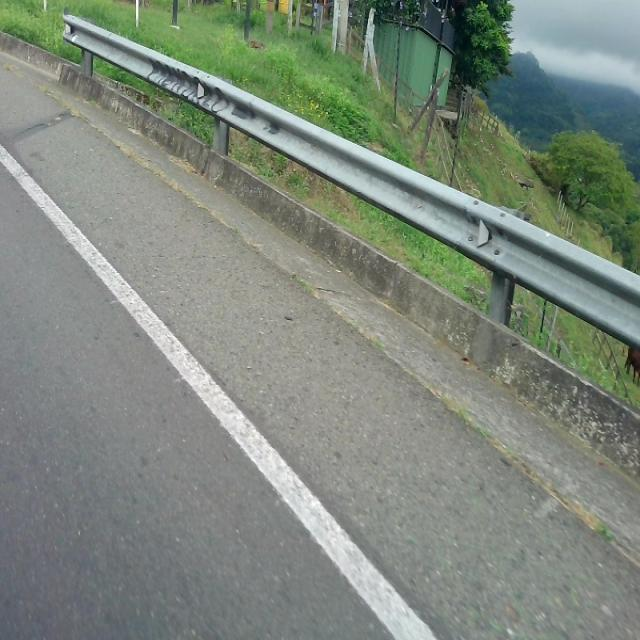DITCH: (1, 37, 638, 637), (1, 74, 638, 639)
